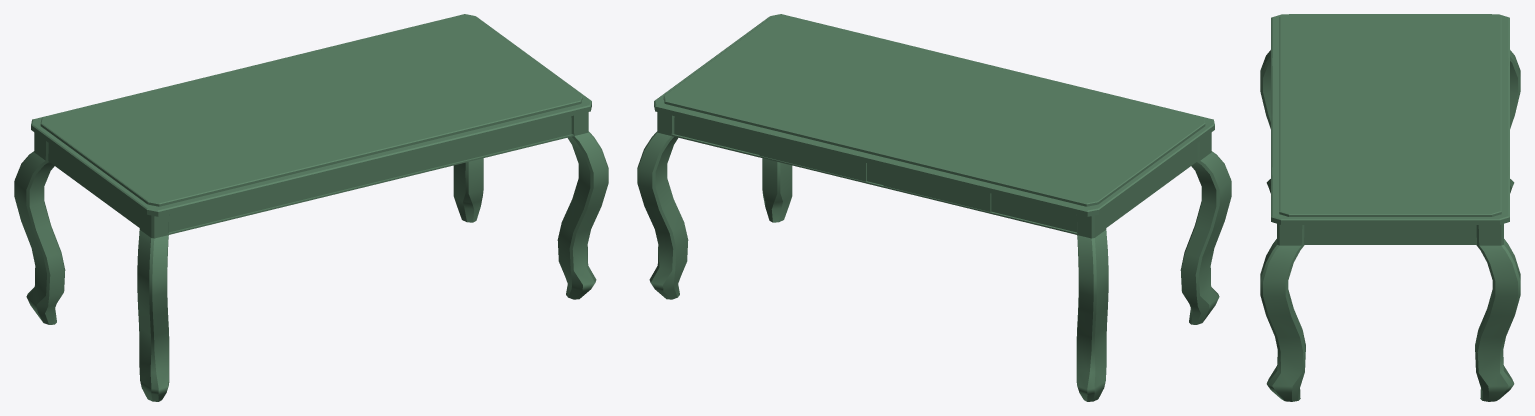
Rendered from BgMD_desk.fbx.
3 views of the same model, side by side, from view 1: azimuth 30°, elevation 25°; view 2: azimuth 150°, elevation 25°; view 3: azimuth 270°, elevation 25° (orthographic). The views are drawn at different scales.
Parts seen in each view (by area): view 1: MIi_desk_0101; view 2: MIi_desk_0101; view 3: MIi_desk_0101.
Part boxes in pixels (<box>): MIi_desk_0101: <box>14,14,608,401</box>; MIi_desk_0101: <box>637,14,1231,401</box>; MIi_desk_0101: <box>1260,14,1520,401</box>.
Bounding box in the file's own units: 1.55 × 0.6408 × 0.8018.
